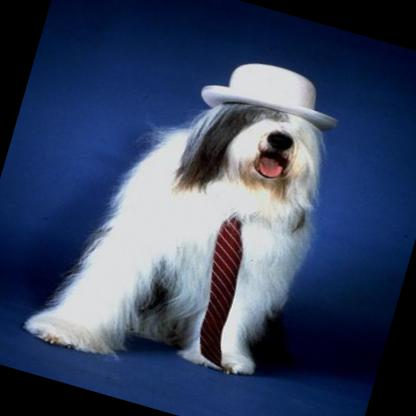Old_English_sheepdog: (20, 15, 356, 405)
